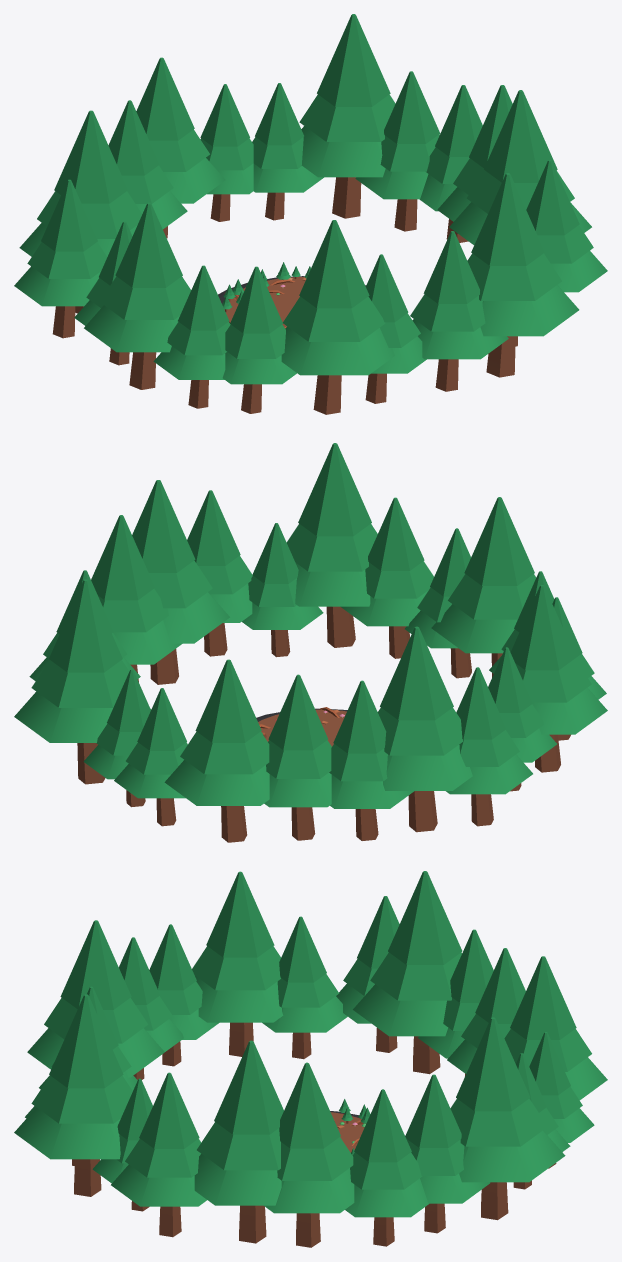
File: root_lurker.glb
The picture shows the model from 3 angles, top to bottom: view 1: azimuth 30°, elevation 25°; view 2: azimuth 150°, elevation 25°; view 3: azimuth 270°, elevation 25°; orthographic projection.
Parts seen in each view (by area): view 1: RootLurkerGround; view 2: RootLurkerGround; view 3: RootLurkerGround.
Part boxes in pixels (left/top/right/bottom): RootLurkerGround: left=14, top=14, right=607, bottom=414; RootLurkerGround: left=14, top=443, right=607, bottom=842; RootLurkerGround: left=14, top=871, right=607, bottom=1247.
Size of the model in its own units: 42.64 by 17.24 by 44.79.
Materials: 1 (1 with a texture image).
